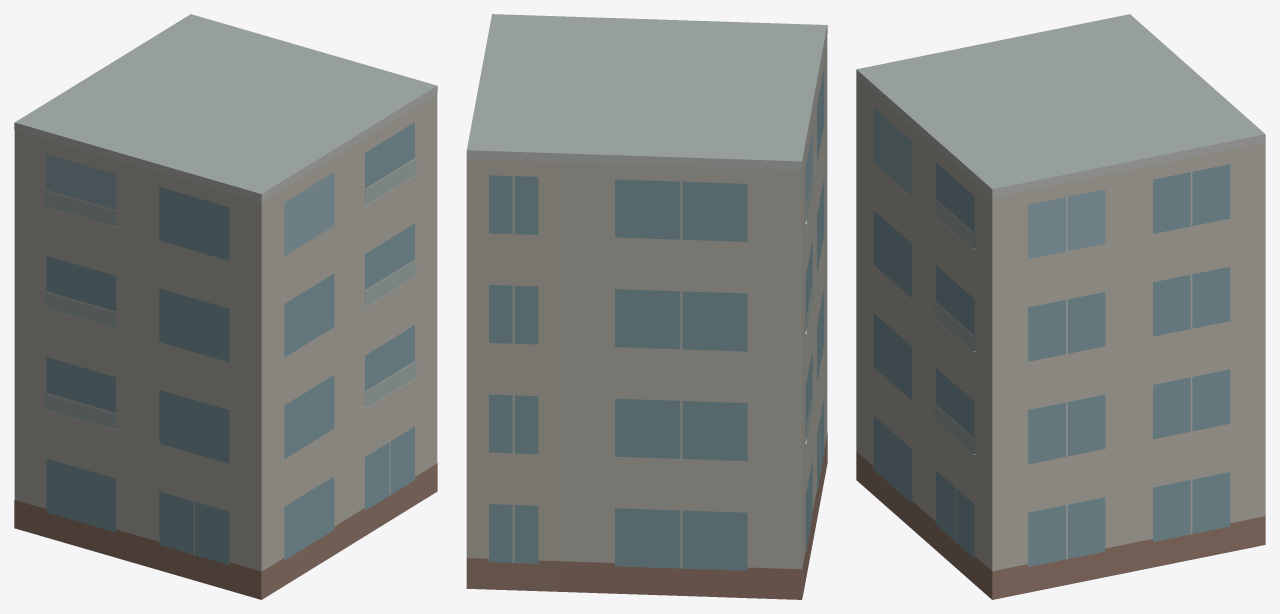
Rendered from residential-89821335-cbd2-45fe-b68c-b04ee2798f6d.glb.
3 views of the same model, side by side, from view 1: azimuth 30°, elevation 25°; view 2: azimuth 150°, elevation 25°; view 3: azimuth 270°, elevation 25° (orthographic). The views are drawn at different scales.
Parts seen in each view (by area): view 1: residential-89821335-cbd2-45fe-b68c-b04ee2798f6d.tmp; view 2: residential-89821335-cbd2-45fe-b68c-b04ee2798f6d.tmp; view 3: residential-89821335-cbd2-45fe-b68c-b04ee2798f6d.tmp.
Part boxes in pixels (x1,y1,x2,y2): residential-89821335-cbd2-45fe-b68c-b04ee2798f6d.tmp: (14, 14, 437, 599); residential-89821335-cbd2-45fe-b68c-b04ee2798f6d.tmp: (466, 14, 827, 599); residential-89821335-cbd2-45fe-b68c-b04ee2798f6d.tmp: (856, 14, 1265, 599).
Bounding box in the file's own units: 11.18 × 12.2 × 11.03.
